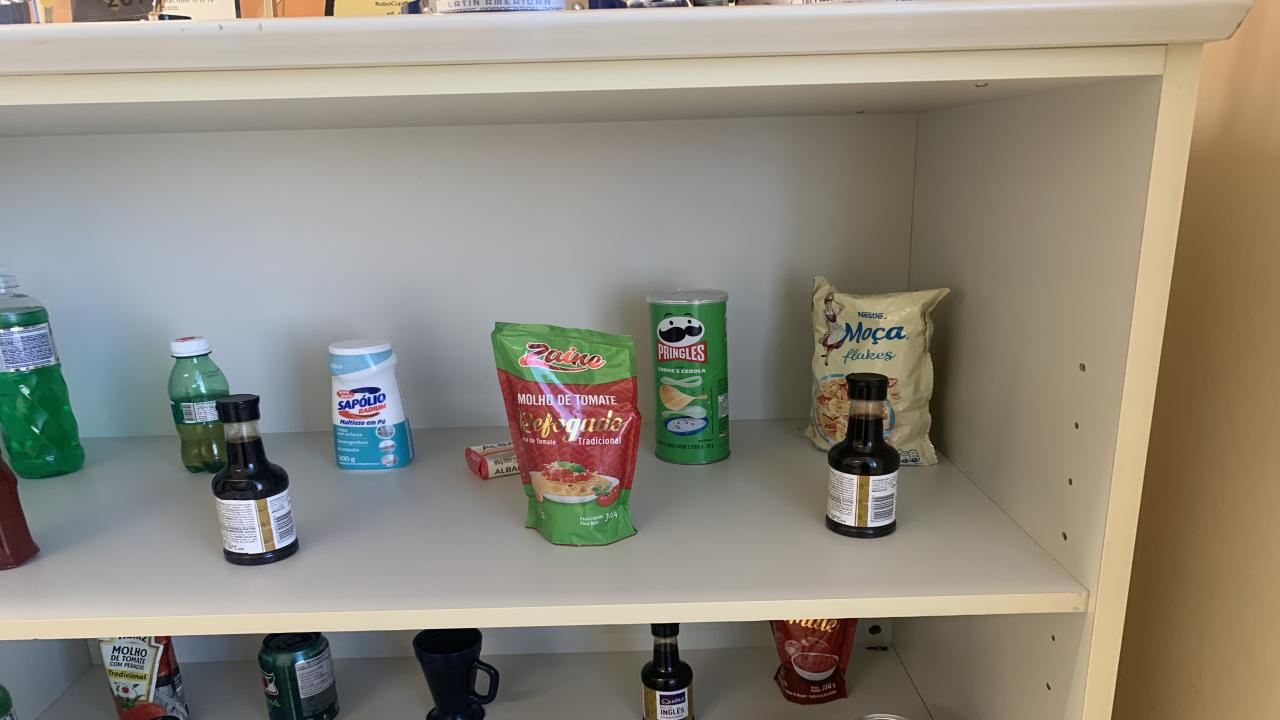Cleaner-Cleanup_Items: (328, 339, 415, 471)
Detergent-Cleanup_Items: (0, 268, 85, 478)
English_Sauce-Pantry_Items: (212, 394, 300, 566), (825, 373, 900, 538), (640, 624, 695, 720)
Flakes-Snacks: (805, 278, 948, 465)
Guarana-Drinks: (168, 338, 230, 472)
Guarana_Can-Drinks: (258, 632, 338, 720)
Ketchup-Pantry_Items: (0, 456, 40, 570)
Pringles-Snacks: (648, 289, 730, 465)
Soap-Cleanup_Items: (465, 441, 520, 478)
Tomato_Sauce-Pantry_Items: (492, 322, 640, 546), (98, 636, 190, 720), (770, 619, 858, 705)
